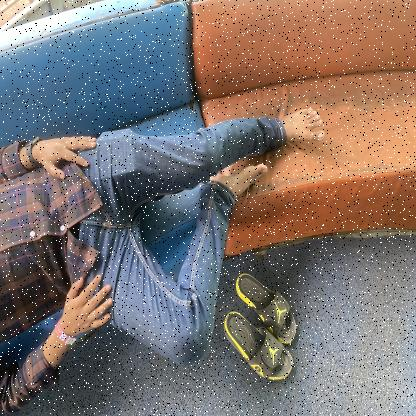hand: (8, 250, 143, 402), (0, 107, 107, 182)
leg: (187, 163, 271, 296), (209, 76, 333, 156)
